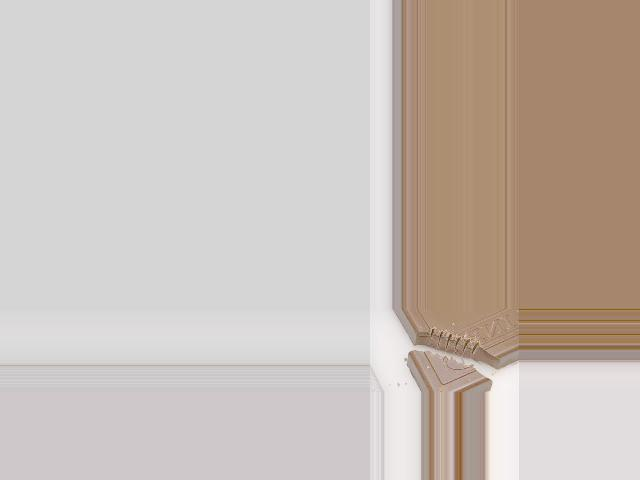chocolate: (391, 310, 518, 392)
